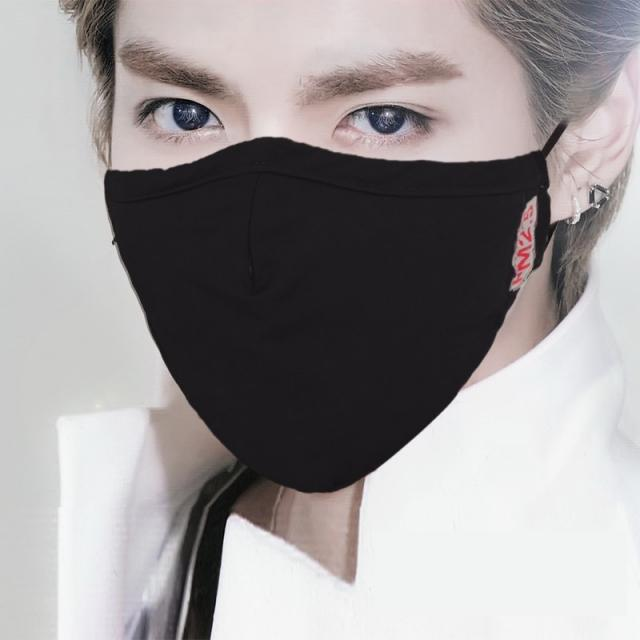mask: (105, 0, 529, 498)
